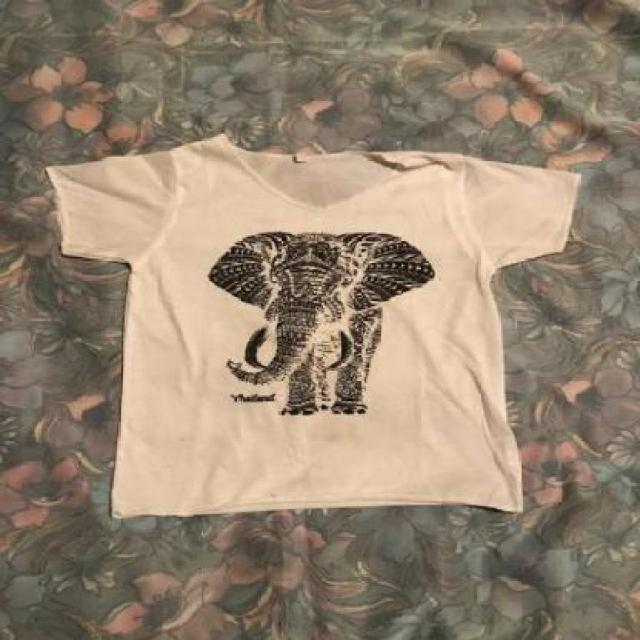shirt: (34, 128, 589, 526)
